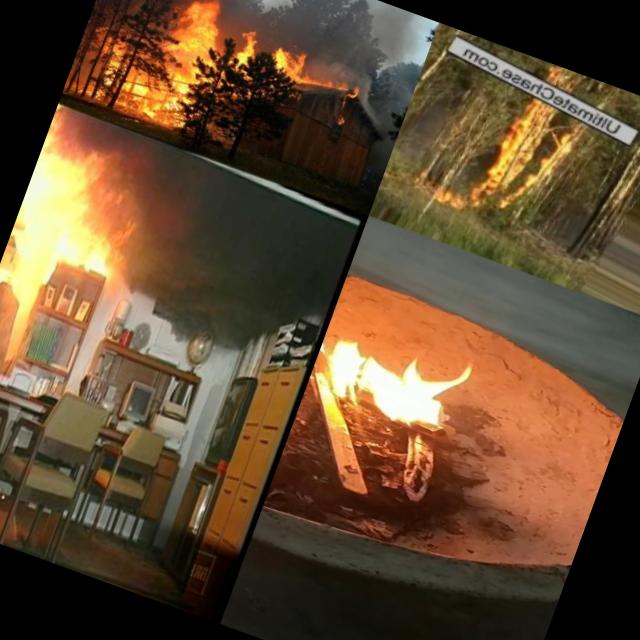fire: (73, 0, 322, 168), (302, 306, 510, 460), (430, 88, 583, 242), (8, 144, 142, 279), (302, 69, 364, 109), (330, 102, 356, 132)
smoke: (310, 0, 439, 103), (344, 88, 408, 163)
